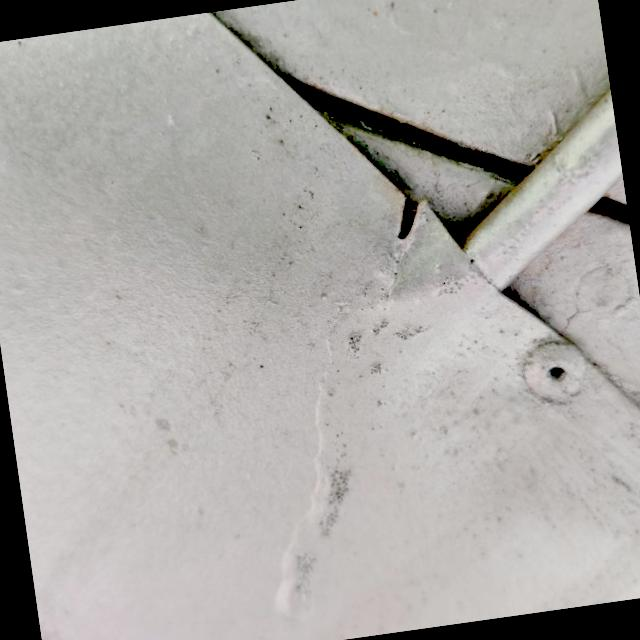crack: (369, 170, 452, 264)
